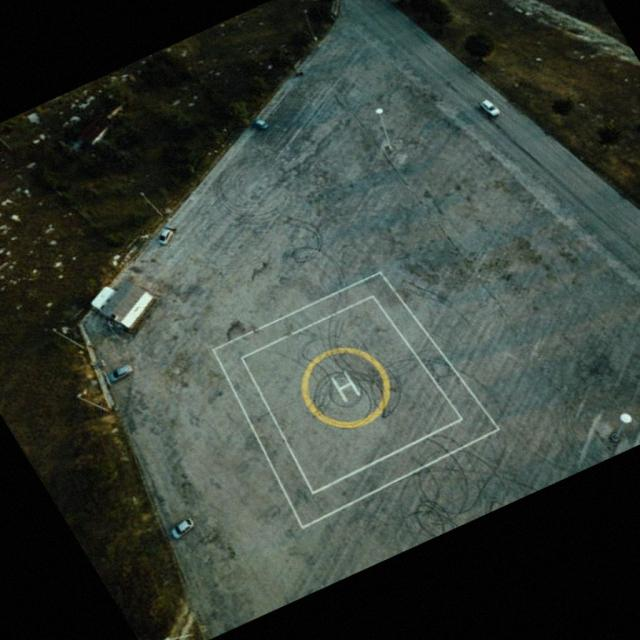helipad: (298, 344, 392, 430)
